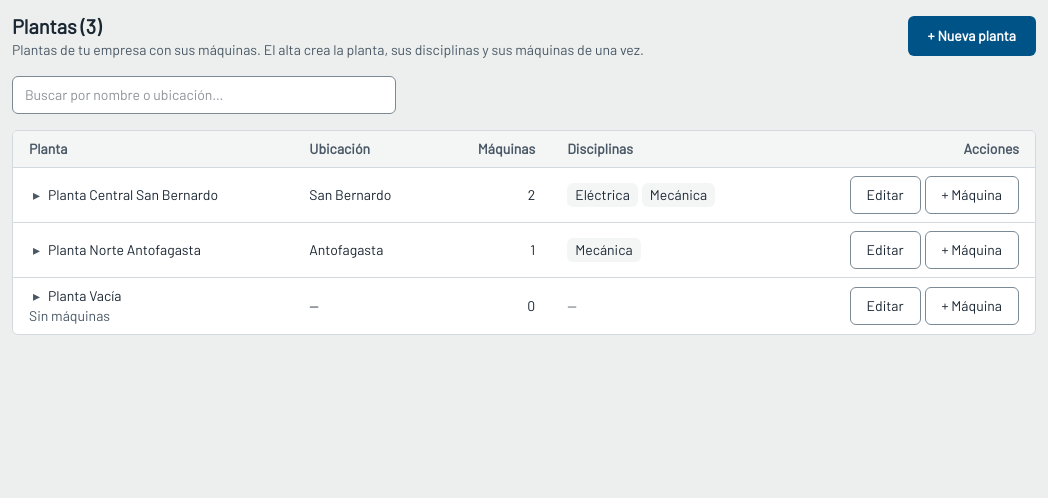
Test case: PlantasComponent › volver a pulsar el chevron oculta las máquinas
Click the button with test id "expandir-planta" next to "Planta Central San Bernardo" at (36, 195), box [29,185,44,205]
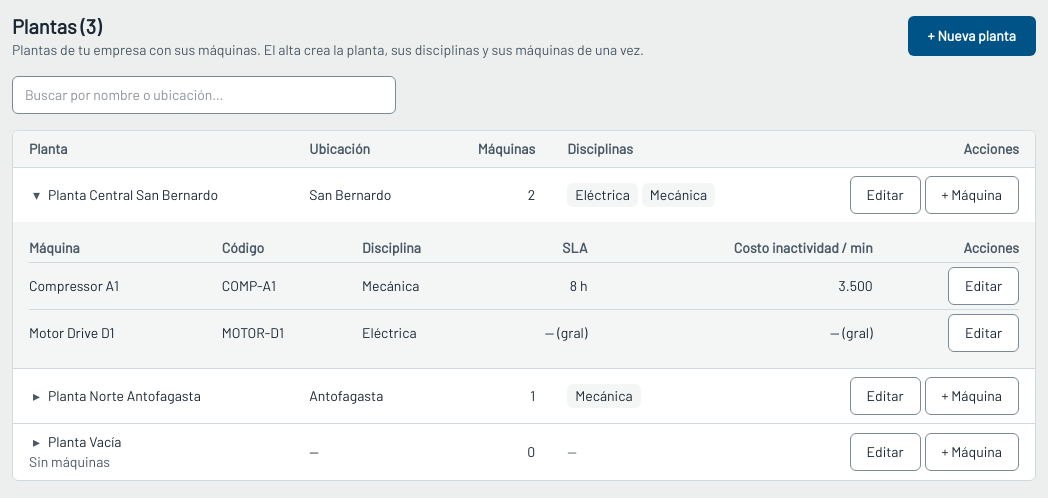
Expected: the number of rows with test id "fila-maquina" is 2, [29,262,1019,310]; [29,310,1019,356]
Click the button with test id "expandir-planta" showing "▾" at (36, 195), box [29,185,44,205]
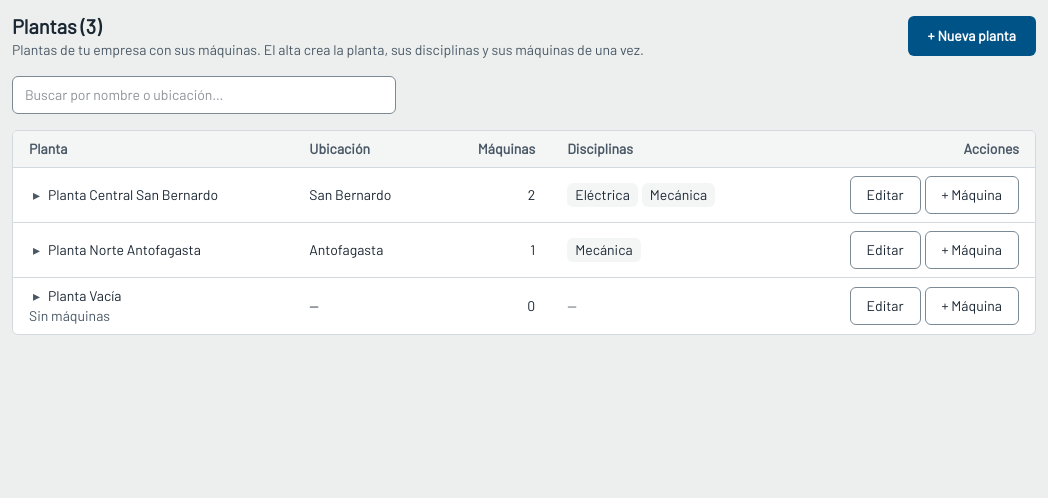
Expected: no rows with test id "fila-maquina" are shown
